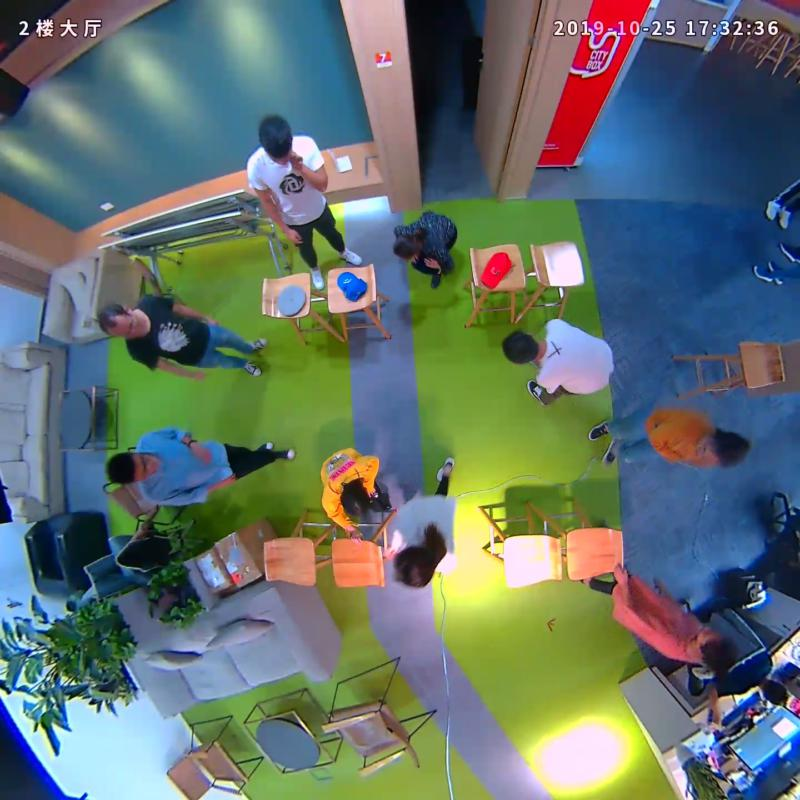head: (254, 111, 304, 170), (694, 423, 754, 472), (688, 622, 742, 676), (99, 447, 160, 488), (390, 542, 436, 593), (499, 325, 547, 372), (94, 302, 149, 340), (333, 480, 376, 522), (388, 230, 428, 267)
